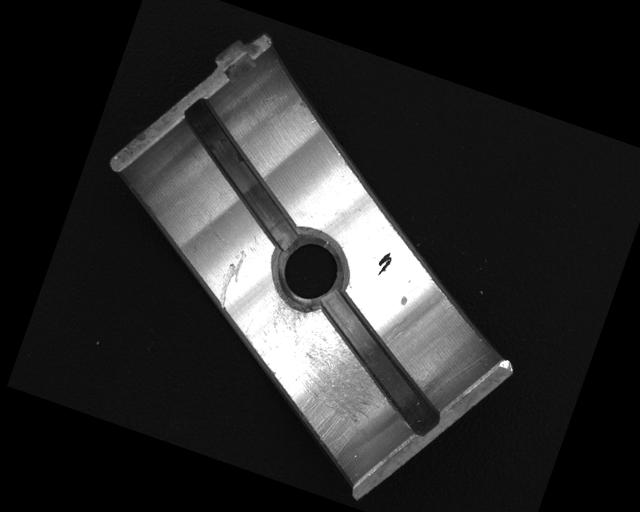blot: (373, 248, 394, 278)
bruise: (397, 293, 410, 309)
gap: (154, 97, 330, 252), (296, 291, 467, 436)
hole: (262, 224, 357, 319)
nick: (212, 246, 250, 311)
scratch: (229, 293, 397, 466)
